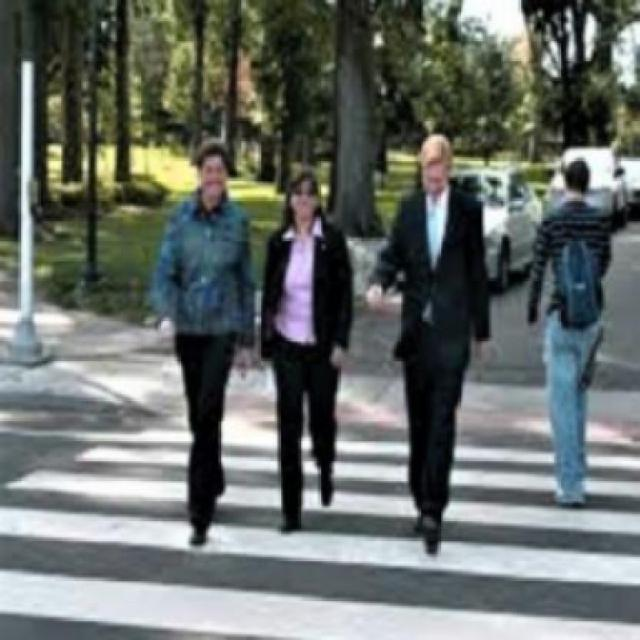obstacle: (364, 124, 491, 556), (157, 137, 257, 555), (258, 164, 354, 533), (528, 154, 608, 508)
